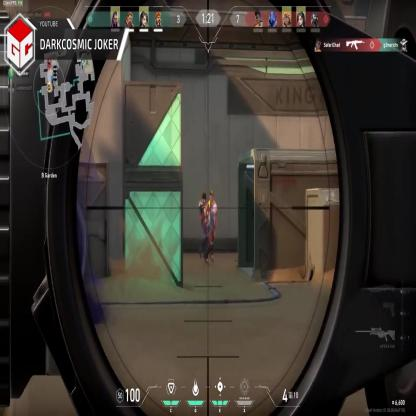enemy: (205, 191, 216, 265)
enemy_head: (209, 191, 213, 201)
